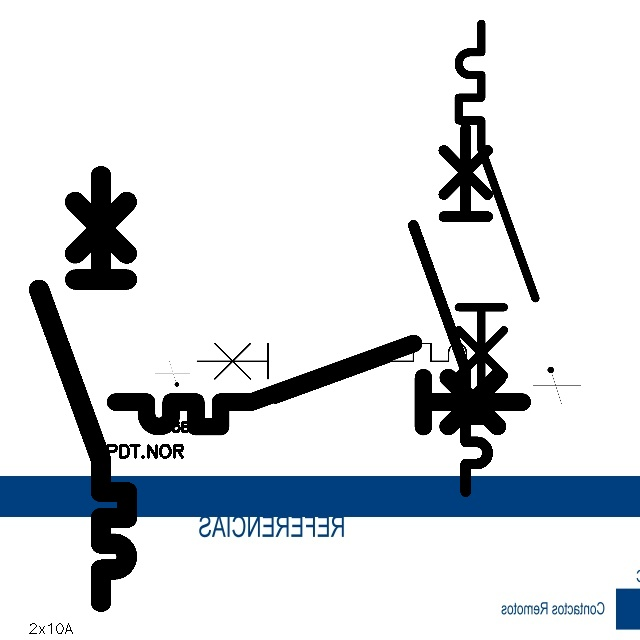interruptor_termomagnetico: (28, 165, 138, 613), (105, 333, 532, 437), (449, 14, 545, 407), (404, 119, 497, 501), (189, 336, 496, 411)
